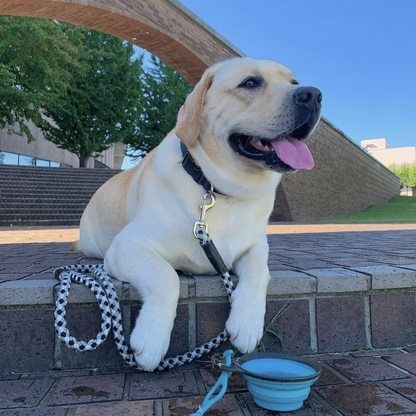labrado: (76, 53, 325, 375)
